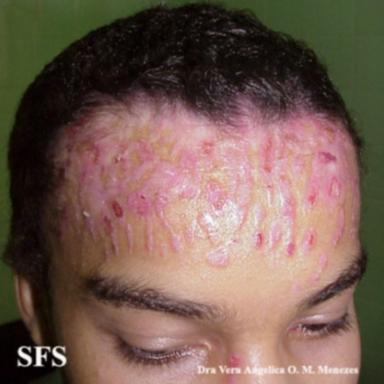Epidermolysis-Bullosa-Pruriginosa: (50, 90, 362, 268), (311, 253, 327, 282)
Impetigo: (302, 227, 317, 254)
